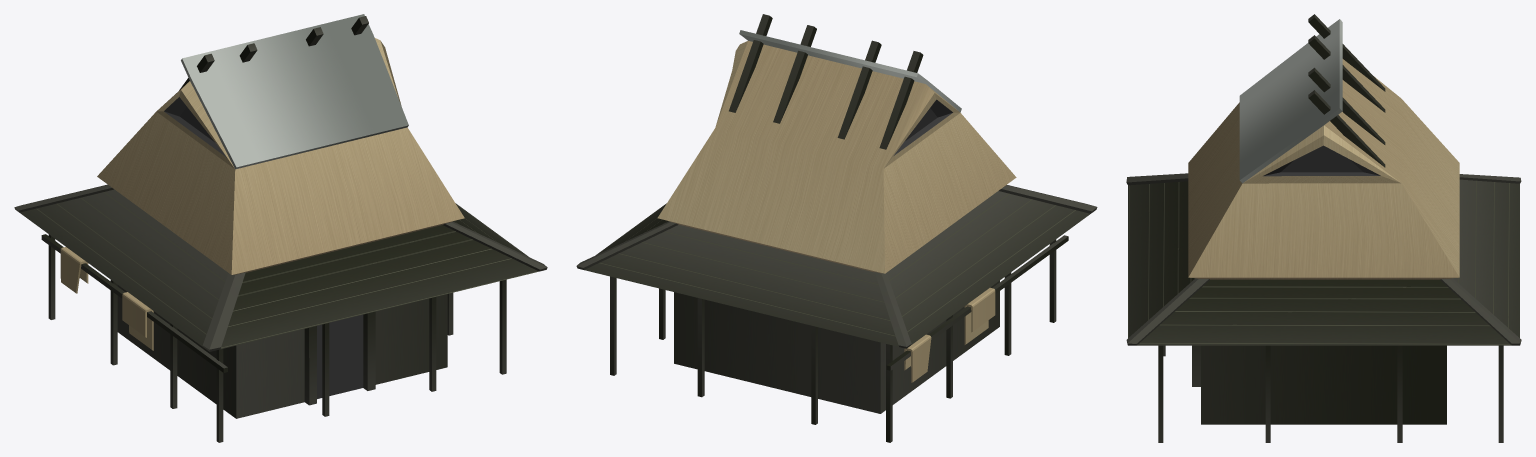
Rendered from House.fbx.
The picture shows the model from 3 angles, left to right: view 1: azimuth 30°, elevation 25°; view 2: azimuth 150°, elevation 25°; view 3: azimuth 270°, elevation 25°; orthographic projection. The views are drawn at different scales.
Visible parts, largest first — view 1: pCube22; view 2: pCube22; view 3: pCube22.
Boxes of the visible parts, left/top/right/bottom form: pCube22: left=14, top=14, right=547, bottom=442; pCube22: left=576, top=14, right=1097, bottom=442; pCube22: left=1126, top=14, right=1521, bottom=442.
Bounding box in the file's own units: 1.61 × 1.43 × 1.61.
